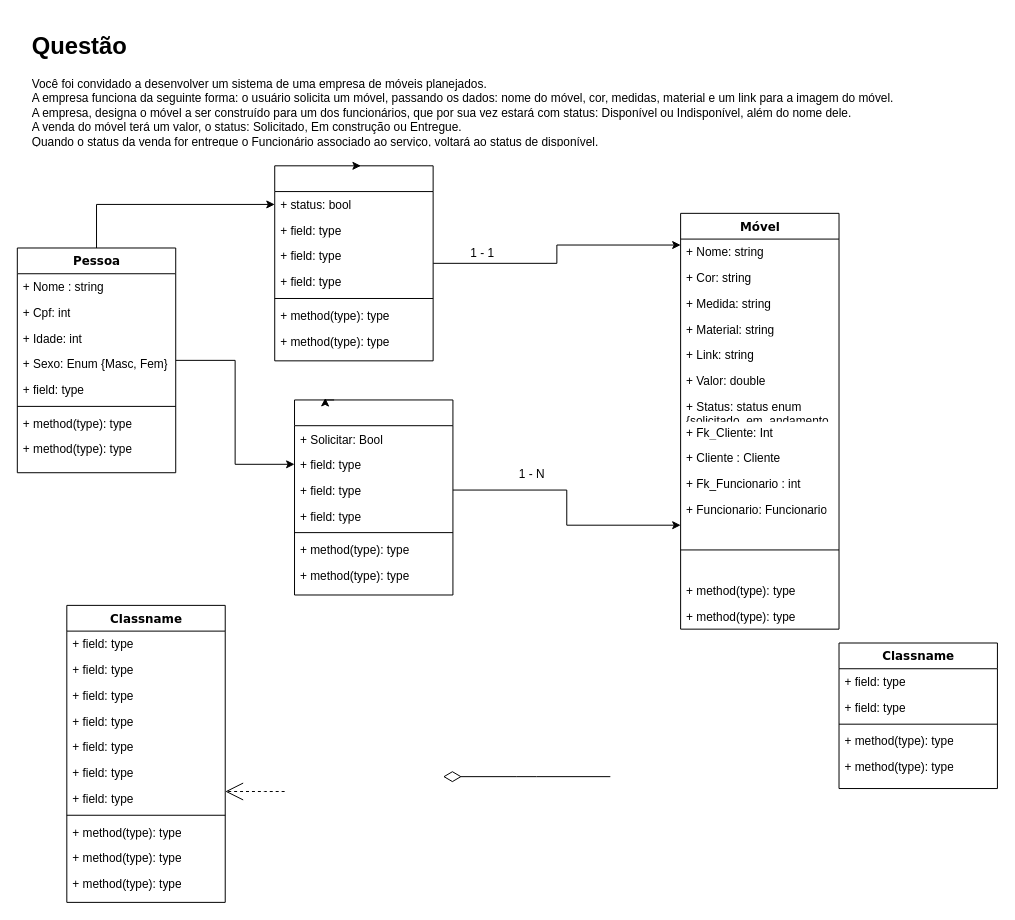
Some shapes in this 1015 by 920 pixel diagram are drawn without their labels. The box of each missing label's shape, as (x1, y1, x2, y2) in pixels:
Cliente: (294, 399, 453, 595)
Funcionário: (274, 165, 433, 361)
